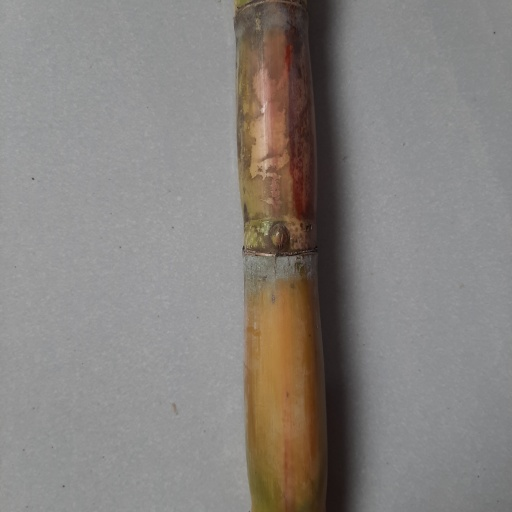Bud: (270, 223, 290, 254)
